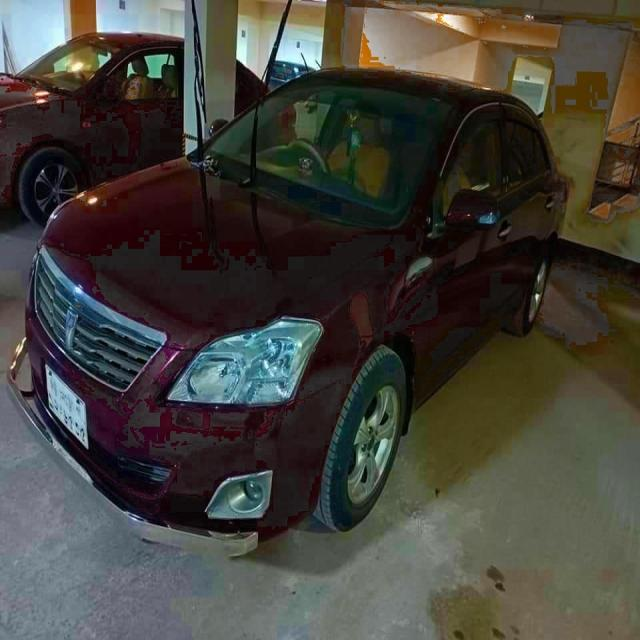maroon: (42, 100, 580, 534), (0, 34, 268, 195)
